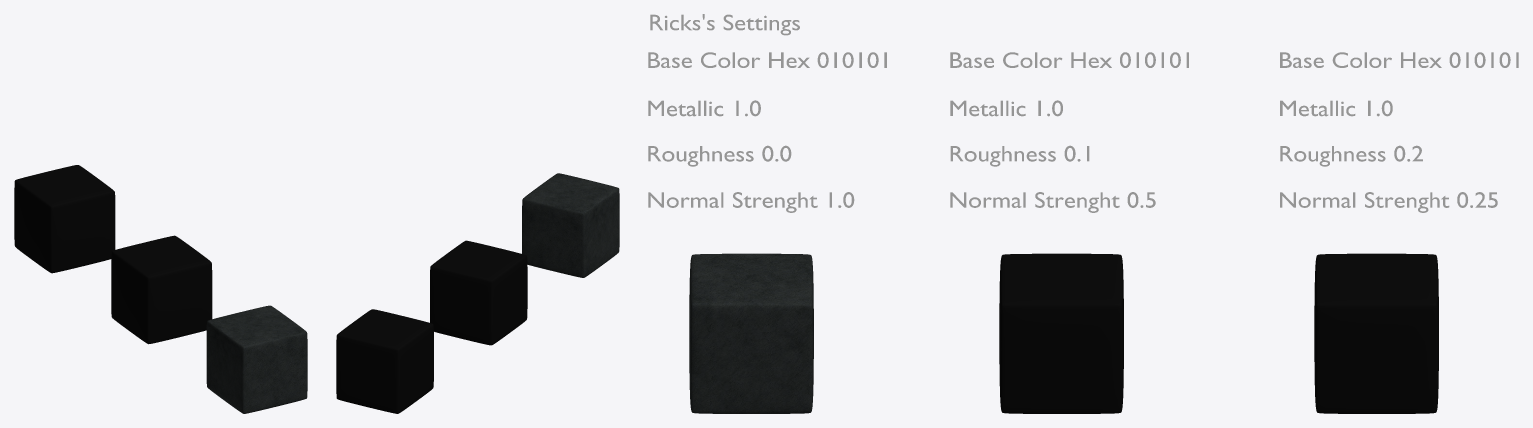
The model's file is Cubetest.glb.
3 views of the same model, side by side, from view 1: azimuth 30°, elevation 25°; view 2: azimuth 150°, elevation 25°; view 3: azimuth 270°, elevation 25° (orthographic). The views are drawn at different scales.
Visible parts, largest first — view 1: Cube, Cube.002, Cube.001; view 2: Cube.002, Cube.001, Cube; view 3: Cube, Cube.001, Cube.002, Text.005, Text.010, Text.002, Text.011, Text.007, Text.006, Text.012, Text, Text.008 (+1 smaller).
Part boxes in pixels (x1,y1,x2,y2): Cube: (206,305,307,413); Cube.002: (14,165,115,273); Cube.001: (111,235,212,344); Cube.002: (336,309,433,413); Cube.001: (430,240,527,345); Cube: (522,173,619,277); Cube: (689,253,813,413); Cube.001: (999,253,1123,413); Cube.002: (1314,253,1438,413); Text.005: (950,52,1188,67); Text.010: (1280,52,1518,67); Text.002: (648,52,886,67); Text.011: (1280,192,1497,212); Text.007: (950,192,1155,212); Text.006: (648,192,854,212); Text.012: (650,14,799,35); Text: (648,145,791,166); Text.008: (1280,145,1422,166).
Bounding box in the file's own units: 0.9976 × 3.32 × 6.97.
3 materials, 1 textured.
